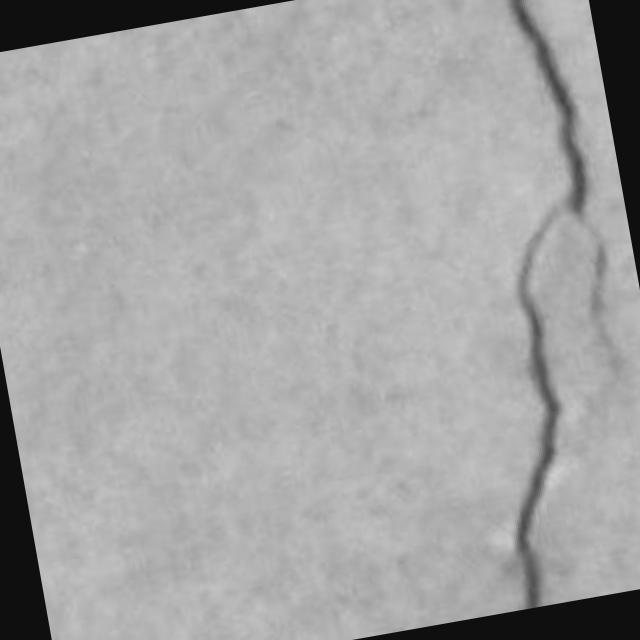crack: (511, 0, 607, 608)
